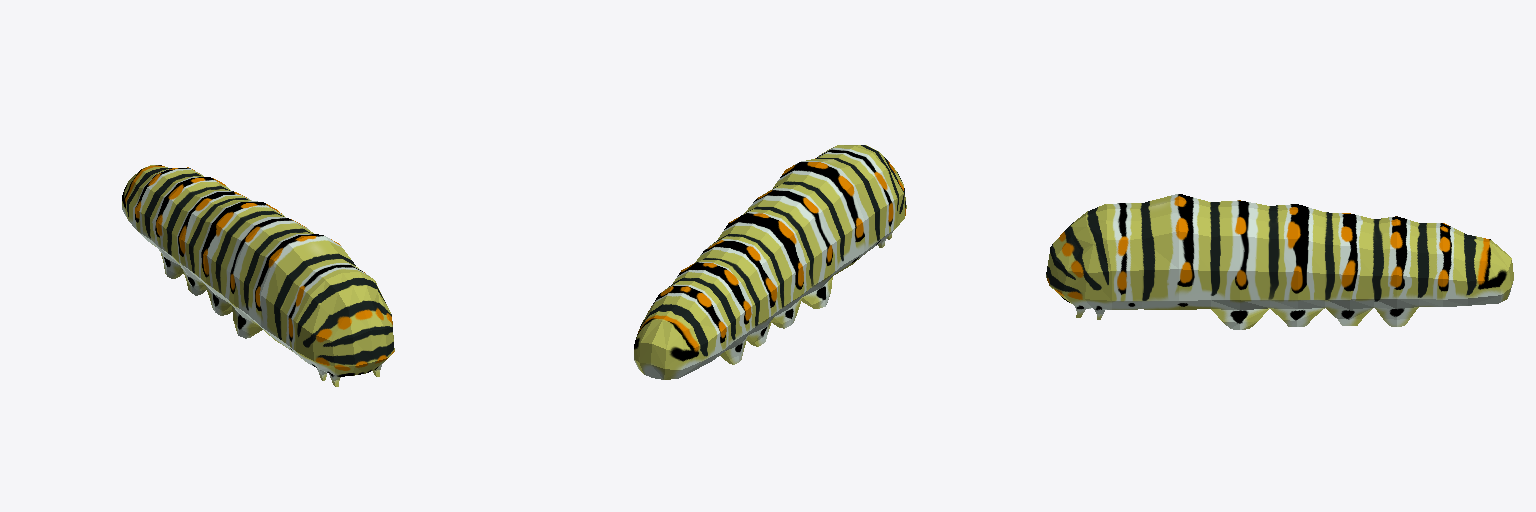
The picture shows the model from 3 angles: view 1: azimuth 30°, elevation 25°; view 2: azimuth 150°, elevation 25°; view 3: azimuth 270°, elevation 25°; orthographic projection.
Bounding box in the file's own units: 0.7987 × 0.9367 × 3.52.
Materials: 1 (1 with a texture image).